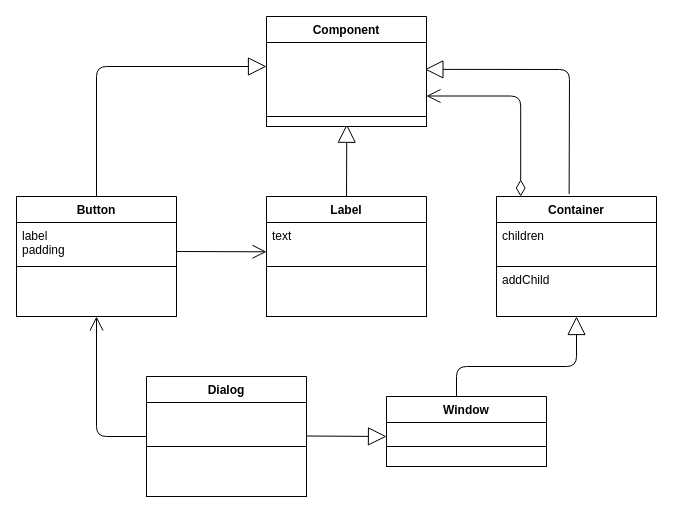
Some shapes in this 673 by 513 pixel diagram are drawn without their labels. The shapes that lost their labels are listed below. From the top down, each one's centre as x and y in pixels, then its label:
At (346,79): "x y width height".
At (96,291): "horizontalSpace verticalSpace".
At (346,291): "clear lower upper".
At (226,424): "acceptButton rejectButton".
At (226,471): "onAccept onReject".
